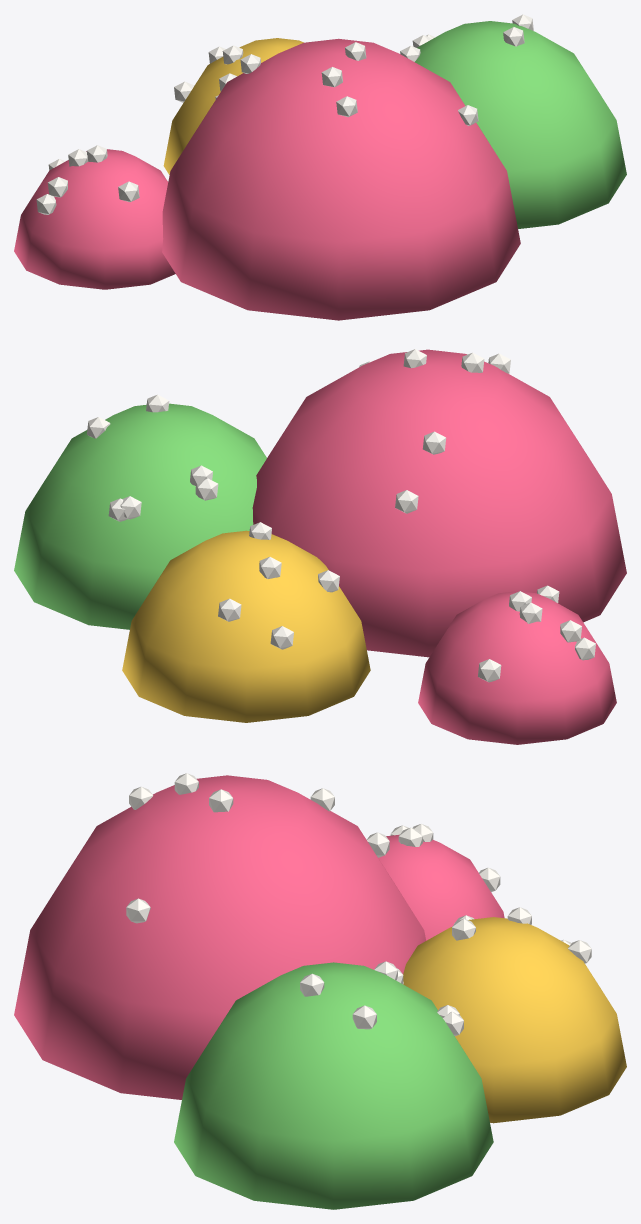
Rendered from Gumdrops.fbx.
3 views of the same model, one above another, from view 1: azimuth 30°, elevation 25°; view 2: azimuth 150°, elevation 25°; view 3: azimuth 270°, elevation 25° (orthographic). The views are drawn at different scales.
Visible parts, largest first — view 1: Gumdrops_CandyA, Gumdrops_CandyB, Gumdrops_Dots, Gumdrops_CandyC; view 2: Gumdrops_CandyA, Gumdrops_CandyB, Gumdrops_CandyC, Gumdrops_Dots; view 3: Gumdrops_CandyA, Gumdrops_CandyB, Gumdrops_CandyC, Gumdrops_Dots.
Part boxes in pixels (box(x1,y1,x2,y2)): Gumdrops_CandyA: box(14, 38, 520, 320); Gumdrops_CandyB: box(415, 21, 626, 228); Gumdrops_Dots: box(36, 14, 533, 214); Gumdrops_CandyC: box(163, 38, 303, 174); Gumdrops_CandyA: box(252, 349, 626, 744); Gumdrops_CandyB: box(14, 403, 266, 629); Gumdrops_CandyC: box(122, 530, 370, 722); Gumdrops_Dots: box(87, 349, 595, 682); Gumdrops_CandyA: box(14, 775, 504, 1099); Gumdrops_CandyB: box(174, 962, 493, 1209); Gumdrops_CandyC: box(403, 917, 626, 1123); Gumdrops_Dots: box(126, 773, 591, 1036).
Size of the model in its own units: 420 by 163 by 345.
